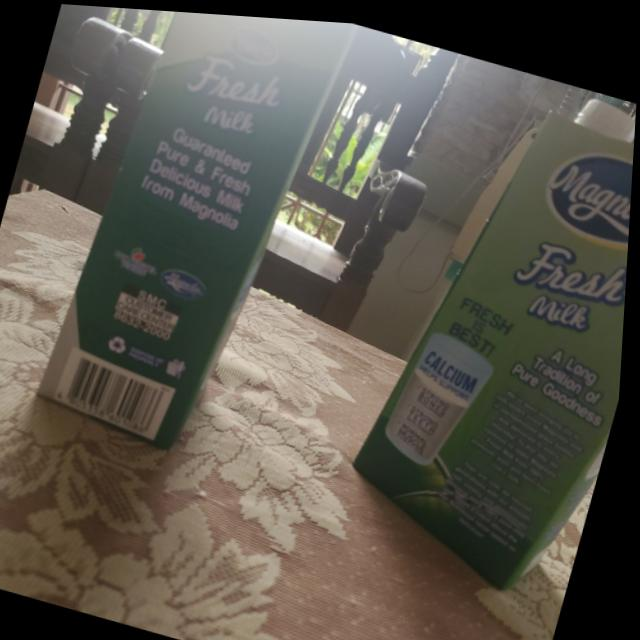milk: (341, 51, 639, 597), (37, 3, 340, 458)
